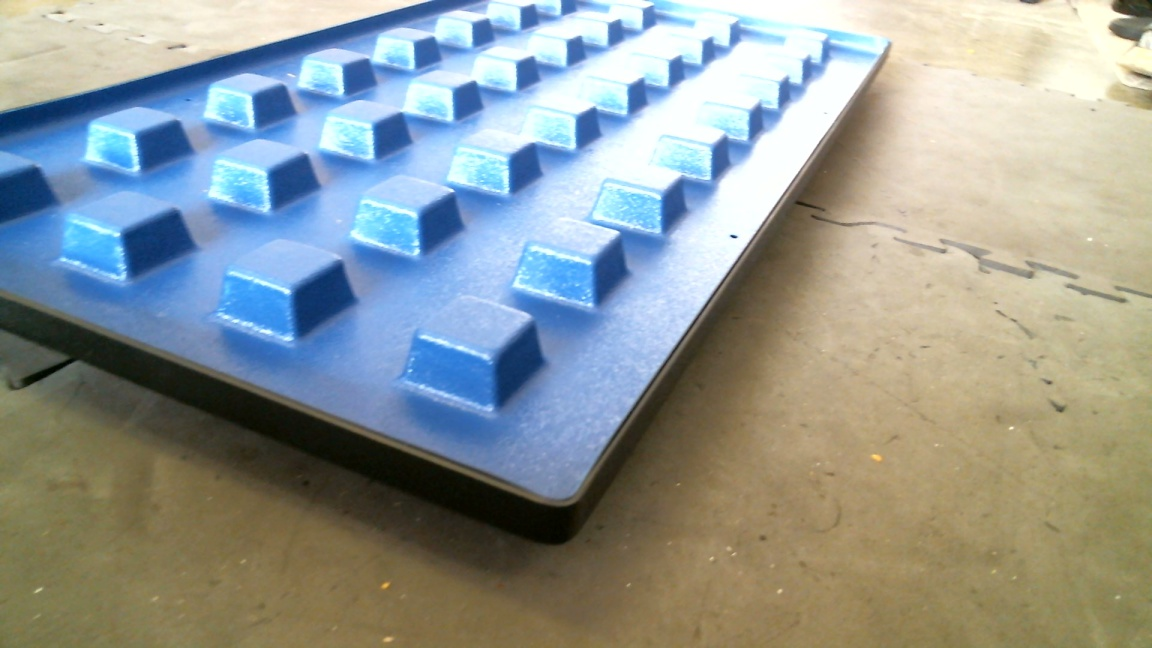blue_foundation: (1, 10, 894, 537)
